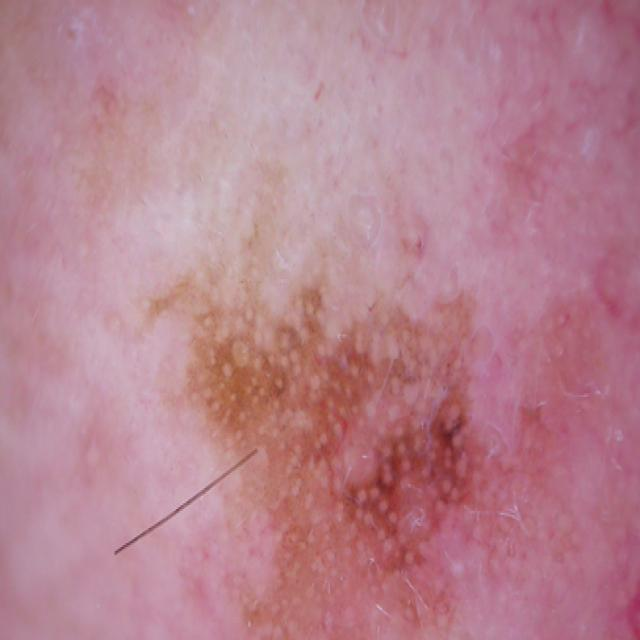Keratosis: (96, 148, 519, 640)
